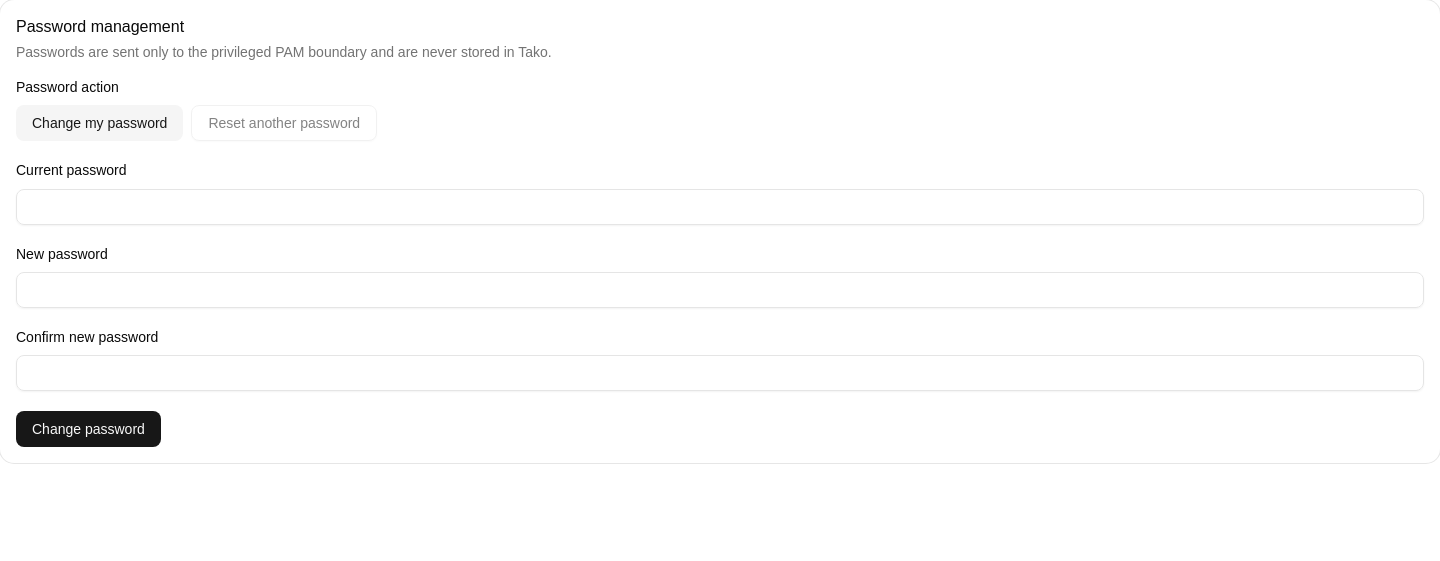
Test case: PasswordManager › shows a distinct safe policy error
This screenshot has width=1440, height=561.
Type "old-secret" into the password field labelled "Current password" at (720, 206), box [16,188,1424,224]
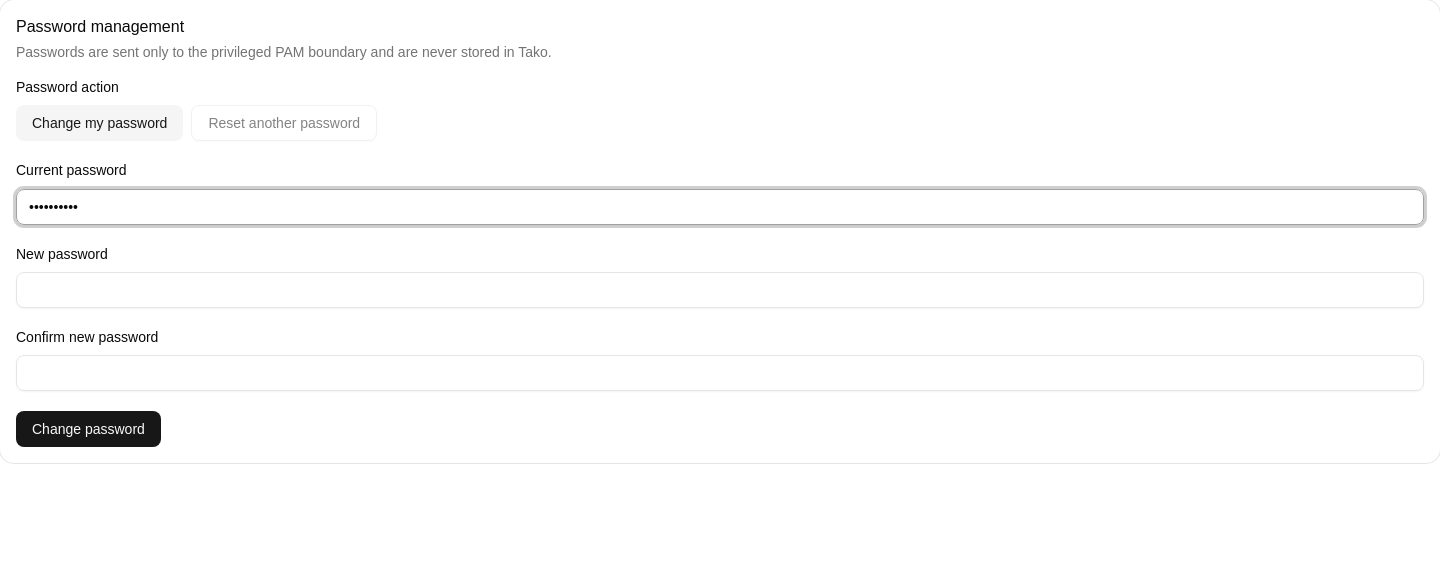
Type "new-secret" into the password field labelled "New password" at (720, 290), box [16,272,1424,308]
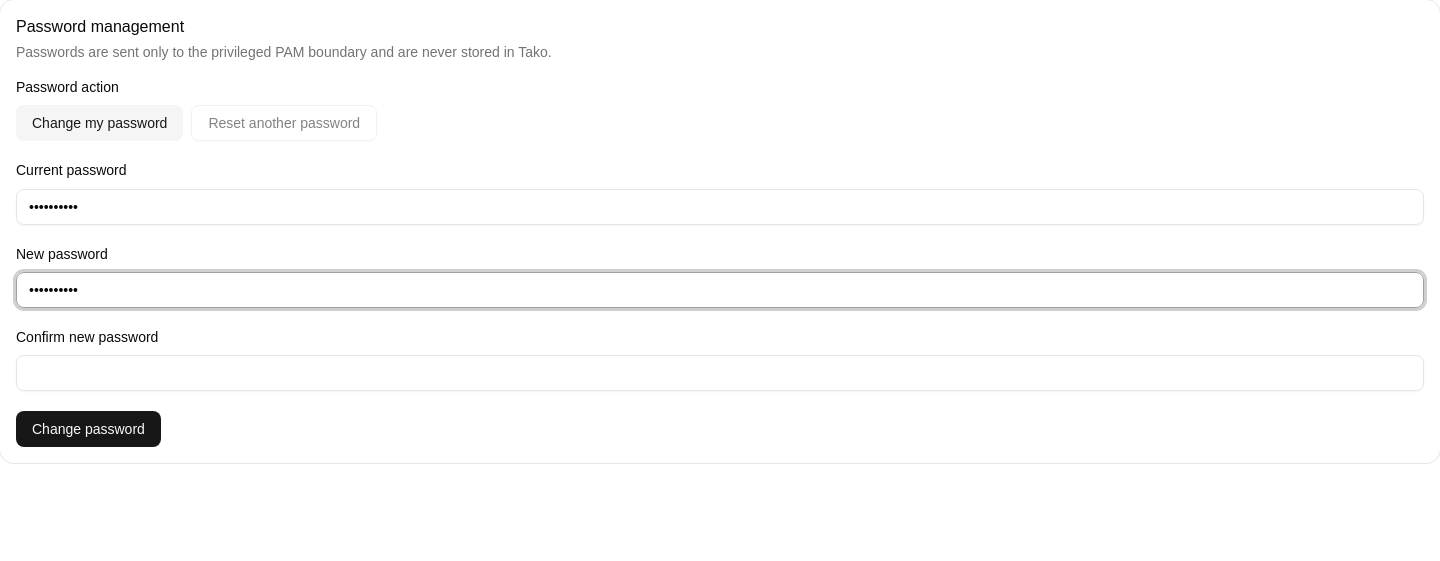
Type "new-secret" into the password field labelled "Confirm new password" at (720, 373), box [16,355,1424,391]
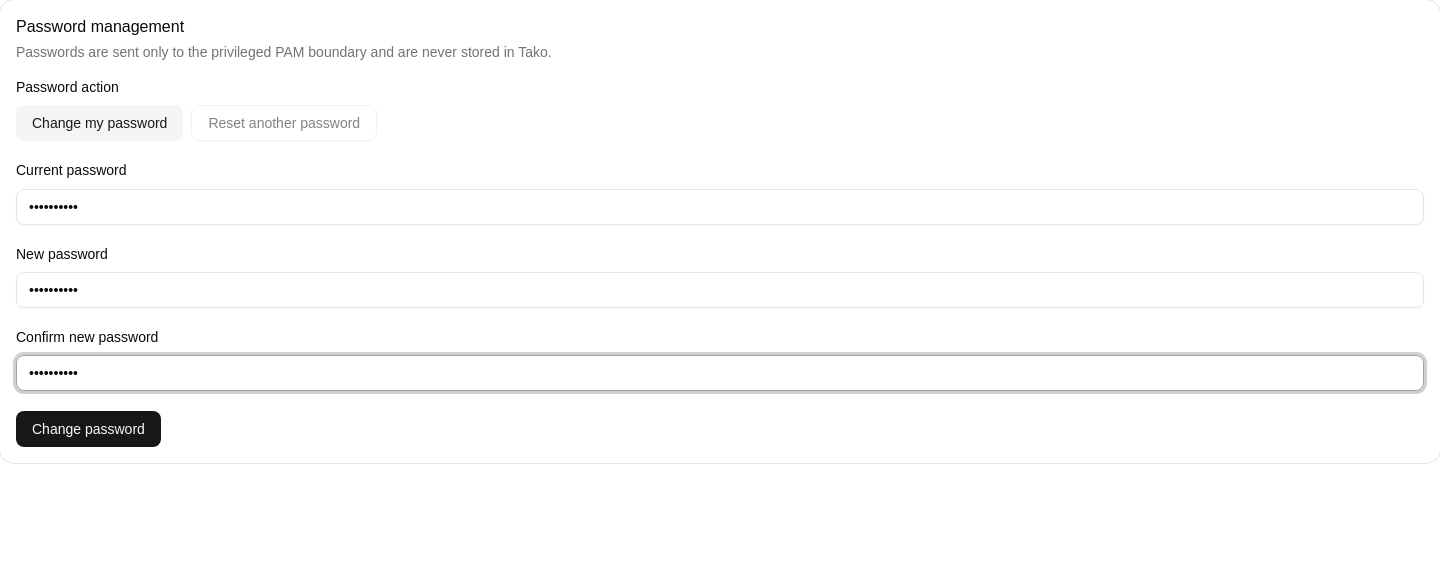
Click the button "Change password" at (88, 429), box [16,411,161,447]
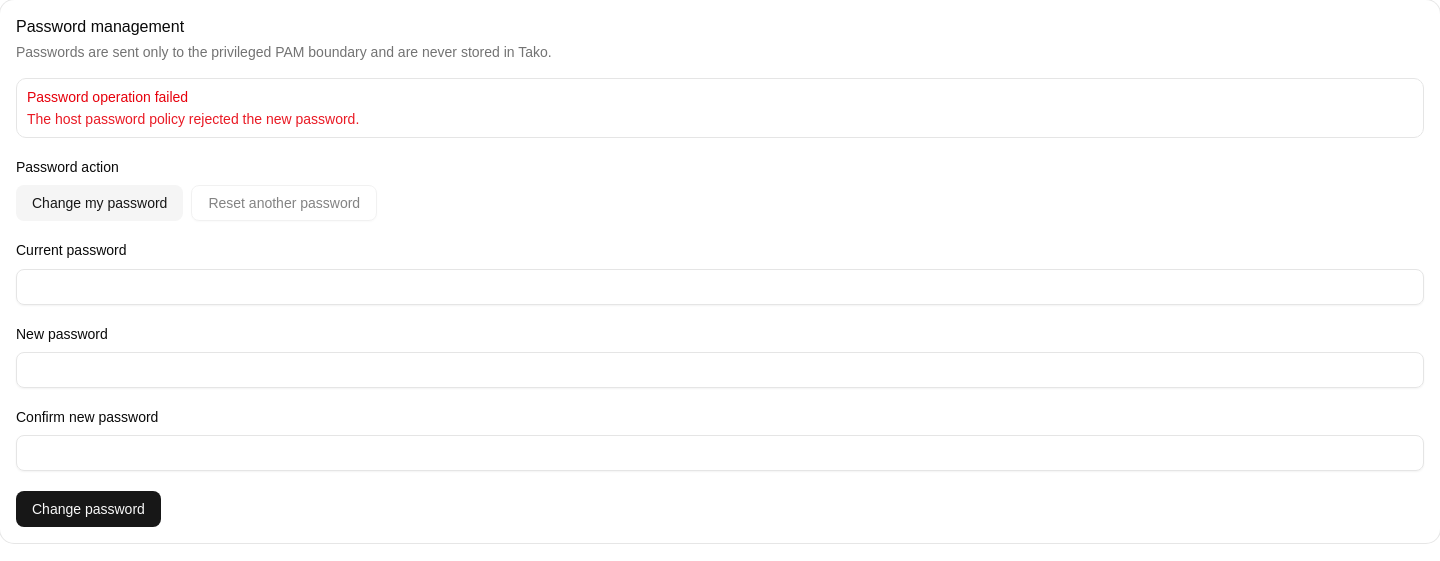
Now the text "The host password policy rejected the new password." is shown, box [27,111,359,127]
